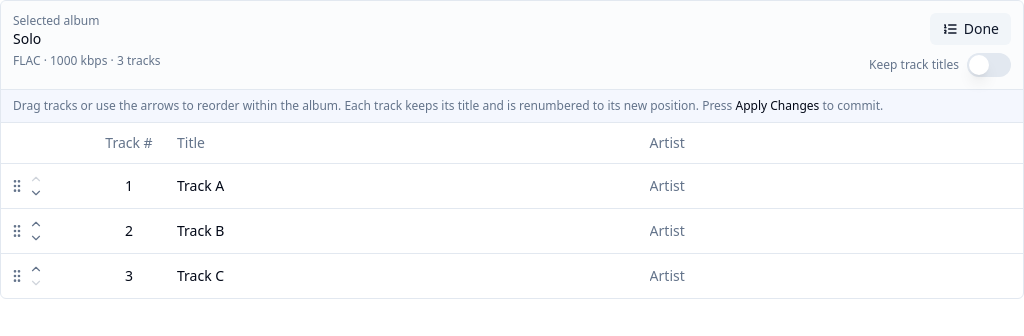
Test: LibraryItemsTable reorder mode › renumbers via the preview when a track moves (keep titles off)
The width and height of the screenshot is (1024, 336).
What coordinates should you click on to do the following:
click the button named "Move Track A down"
I would click on:
 (36, 192)
Its box is 29,186 -> 43,200.
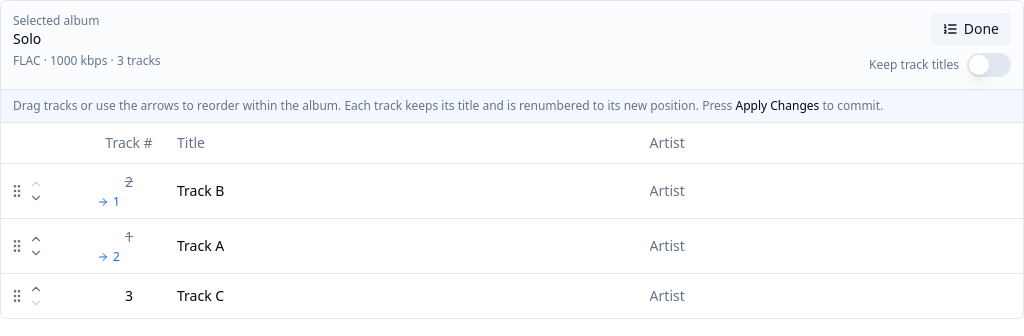
Expected: the text "2" next to "Track A" is shown, 113,248 -> 120,264
